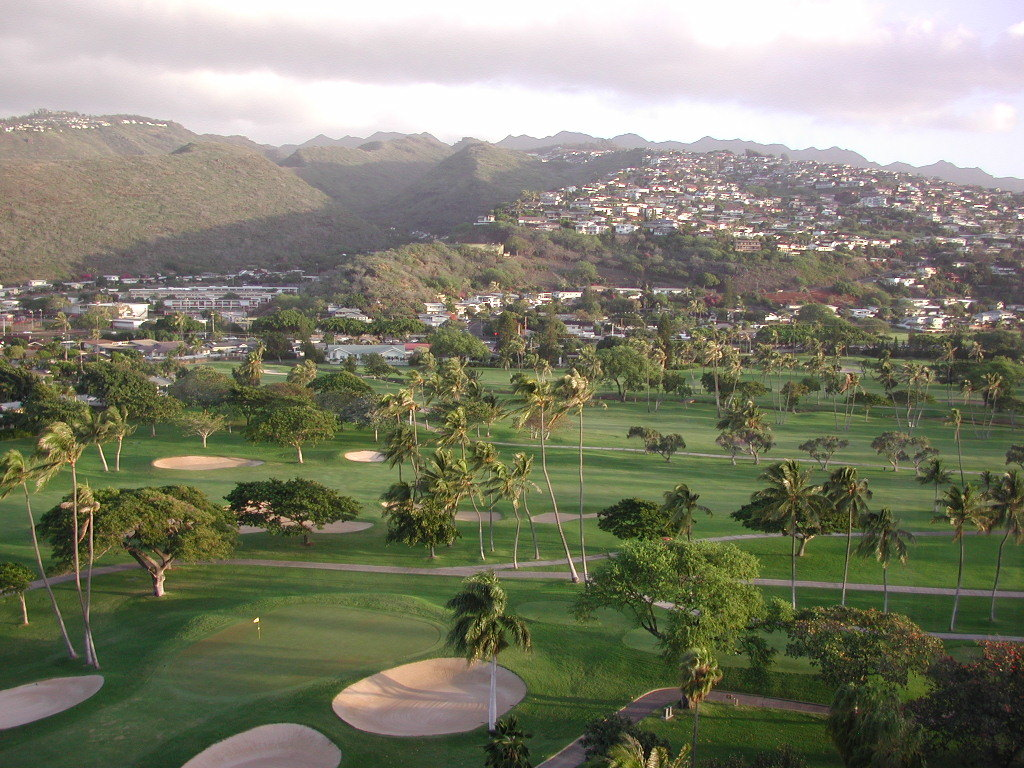Tree: (0, 206, 1022, 667), (785, 600, 1022, 767), (579, 519, 789, 662), (444, 566, 531, 731), (577, 715, 700, 767), (677, 645, 723, 709), (480, 717, 526, 767)
